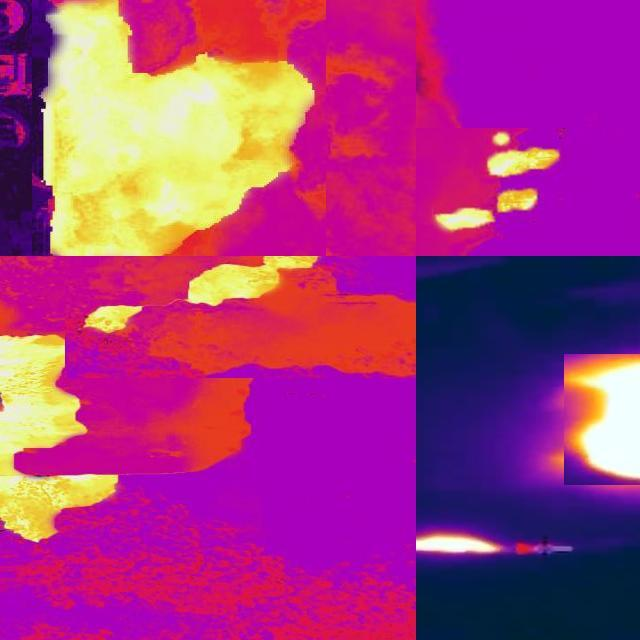fire: (44, 6, 316, 255), (1, 329, 121, 545), (80, 257, 323, 334), (436, 133, 567, 235), (564, 355, 640, 486), (417, 531, 505, 556)
